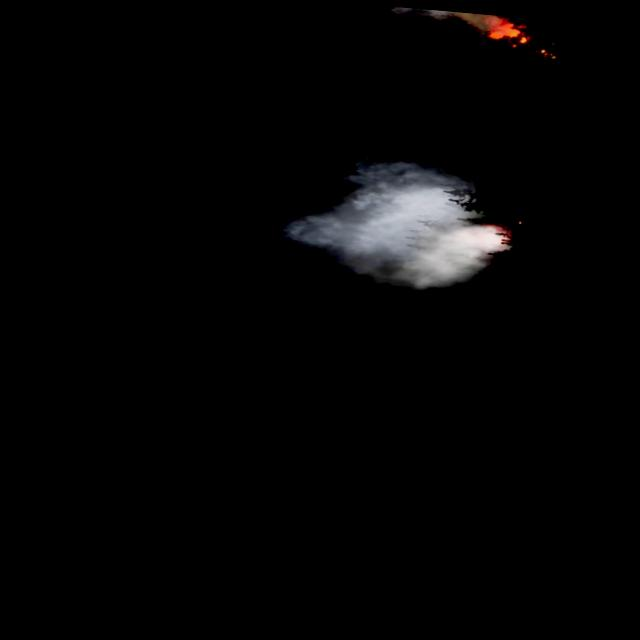fire: (442, 10, 544, 54)
smoke: (284, 152, 512, 296)
